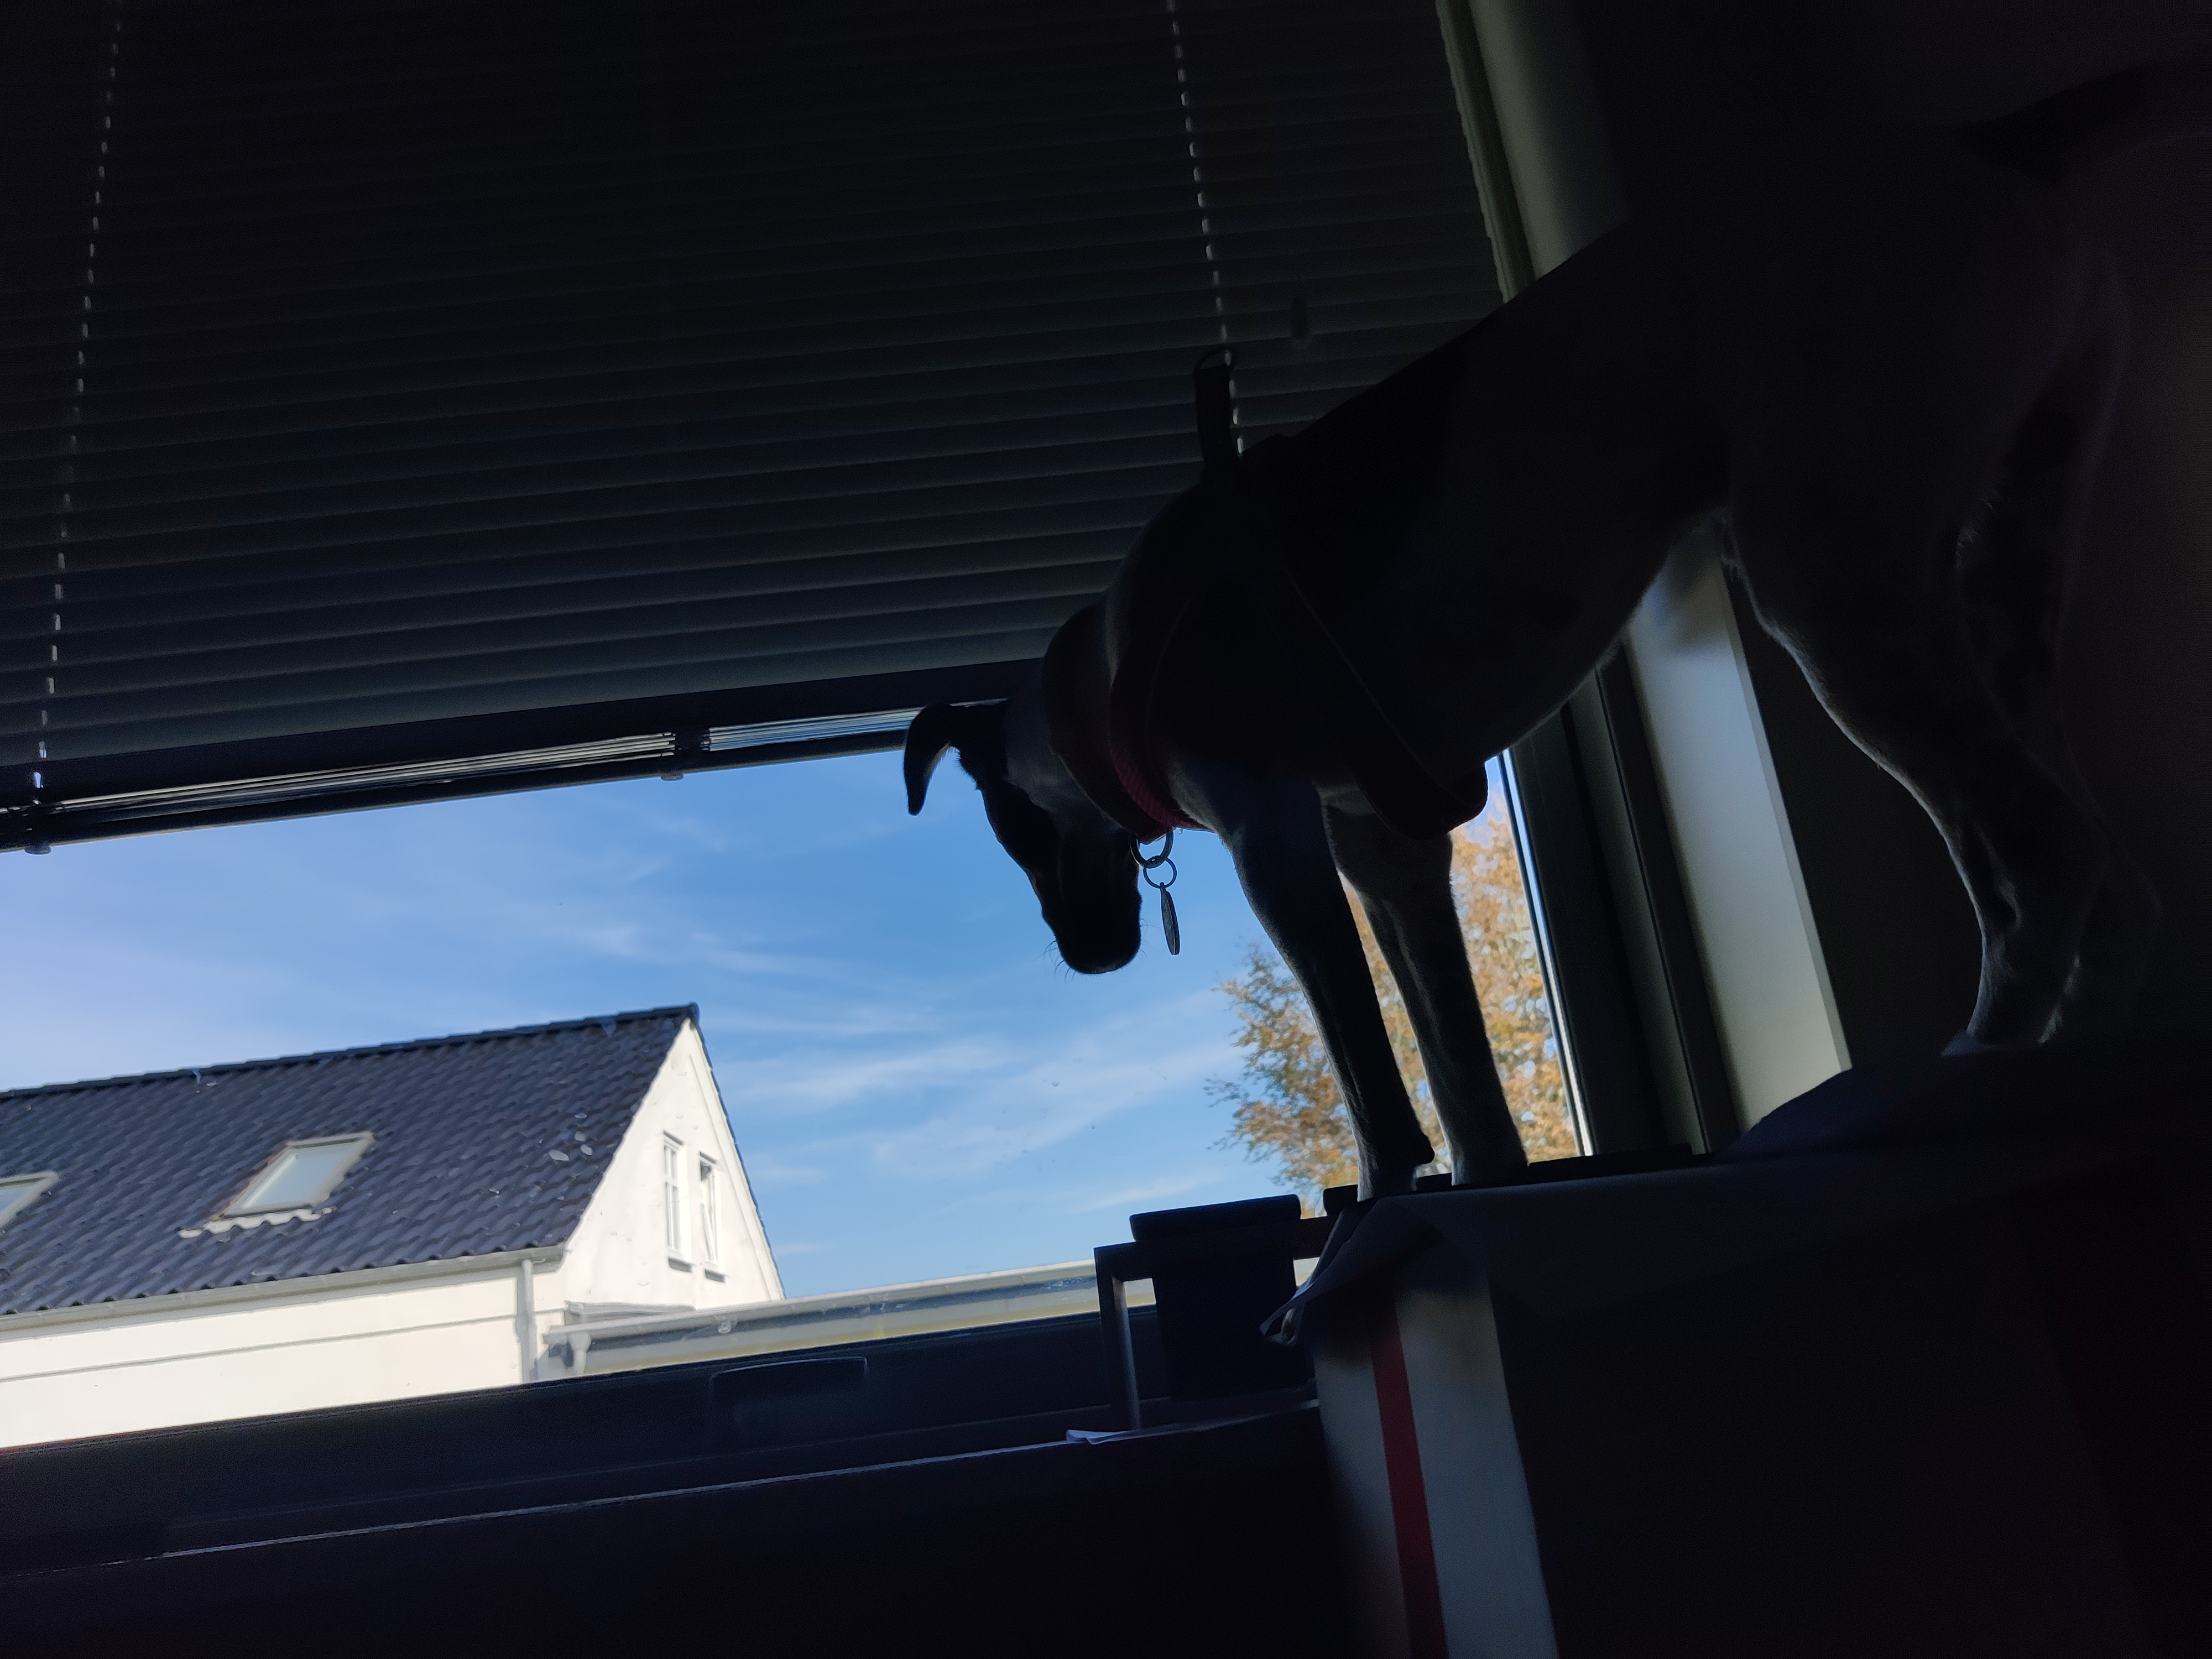Dog: (883, 38, 2212, 1344)
